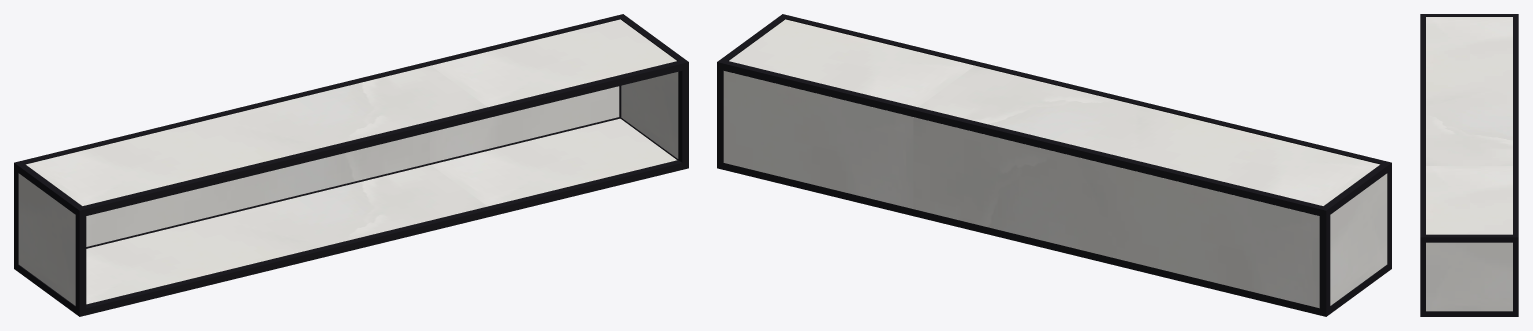
The model's file is BC-OP-XX-XX-XXX-XXX-XXX-1800-300-336-15.glb.
3 renders of one model, left to right at view 1: azimuth 30°, elevation 25°; view 2: azimuth 150°, elevation 25°; view 3: azimuth 270°, elevation 25°, orthographic. The views are drawn at different scales.
Visible parts, largest first — view 1: TP, TP_node_1, TP_node_2, Object_node_1, Object_node_25, TP_node, TP_node_0, Object_node_15, Object_node_35, Object_node_9, Object_node_3, Object_node_11 (+2 smaller); view 2: TP_node_2, TP, Object_node_15, TP_node, Object_node_35, Object_node_1, Object_node_23, Object_node_11, Object_node_17, Object_node_31, Object_node_5; view 3: TP, TP_node_0, Object_node_1, Object_node_15, Object_node_5, Object_node_27, Object_node_3, Object_node_17, Object_node_11.
Boxes of the visible parts, left/top/right/bottom form: TP: left=26, top=19, right=676, bottom=205; TP_node_1: left=86, top=118, right=676, bottom=304; TP_node_2: left=86, top=86, right=619, bottom=246; Object_node_1: left=83, top=61, right=682, bottom=215; Object_node_25: left=86, top=160, right=682, bottom=315; TP_node: left=18, top=173, right=75, bottom=305; TP_node_0: left=621, top=72, right=678, bottom=158; Object_node_15: left=21, top=15, right=620, bottom=164; Object_node_35: left=86, top=117, right=620, bottom=248; Object_node_9: left=75, top=215, right=86, bottom=309; Object_node_3: left=678, top=69, right=688, bottom=162; Object_node_11: left=18, top=164, right=81, bottom=214; TP_node_2: left=723, top=71, right=1319, bottom=308; TP: left=729, top=19, right=1379, bottom=205; Object_node_15: left=723, top=61, right=1322, bottom=215; TP_node: left=1330, top=173, right=1387, bottom=305; Object_node_35: left=723, top=163, right=1319, bottom=315; Object_node_1: left=785, top=15, right=1384, bottom=164; Object_node_23: left=1319, top=215, right=1330, bottom=309; Object_node_11: left=1324, top=164, right=1387, bottom=214; Object_node_17: left=717, top=69, right=723, bottom=162; Object_node_31: left=1330, top=264, right=1387, bottom=313; Object_node_5: left=721, top=17, right=785, bottom=60; TP: left=1426, top=17, right=1512, bottom=234; TP_node_0: left=1426, top=242, right=1512, bottom=311; Object_node_1: left=1420, top=16, right=1425, bottom=234; Object_node_15: left=1513, top=16, right=1518, bottom=234; Object_node_5: left=1426, top=234, right=1512, bottom=242; Object_node_27: left=1426, top=311, right=1512, bottom=316; Object_node_3: left=1420, top=242, right=1425, bottom=311; Object_node_17: left=1513, top=242, right=1518, bottom=311; Object_node_11: left=1426, top=14, right=1512, bottom=16.
Size of the model in its own units: 1.8 by 0.3 by 0.336.
3 materials, 1 textured.
